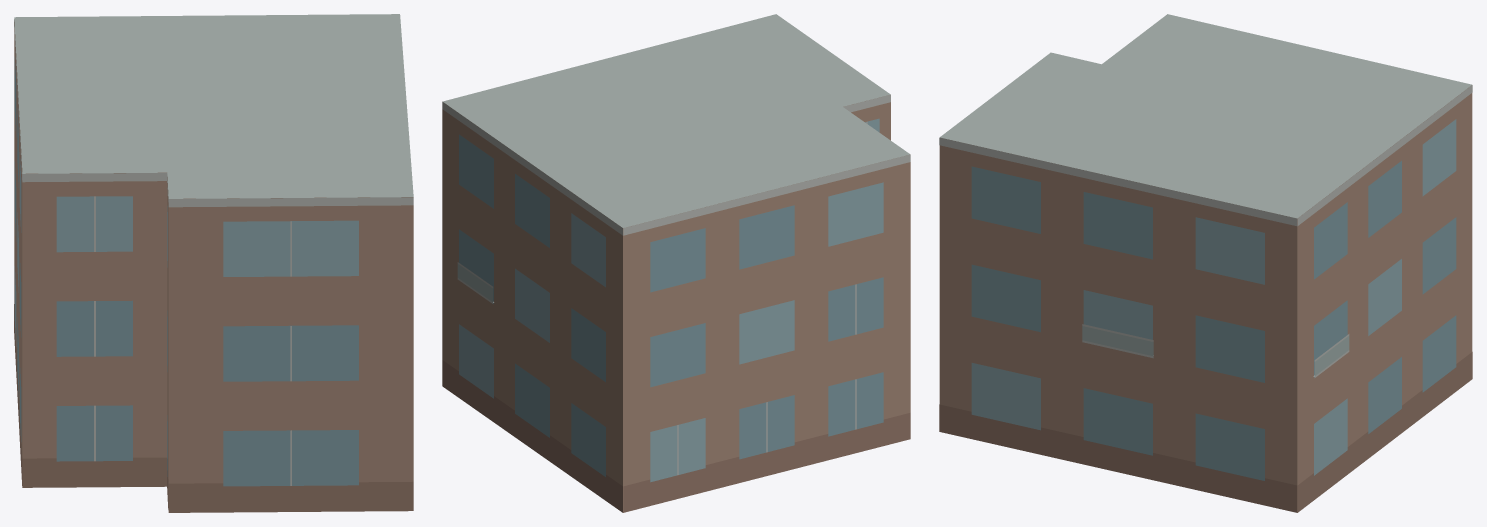
File: survey-upis-32813195.glb
The picture shows the model from 3 angles, left to right: view 1: azimuth 30°, elevation 25°; view 2: azimuth 150°, elevation 25°; view 3: azimuth 270°, elevation 25°; orthographic projection. The views are drawn at different scales.
Visible parts, largest first — view 1: survey-upis-32813195.tmp; view 2: survey-upis-32813195.tmp; view 3: survey-upis-32813195.tmp.
Boxes of the visible parts, x1,y1,x2,y2 form: survey-upis-32813195.tmp: (14, 14, 413, 512); survey-upis-32813195.tmp: (442, 14, 910, 512); survey-upis-32813195.tmp: (939, 14, 1472, 512).
Bounding box in the file's own units: 13.64 × 9.15 × 15.02.
